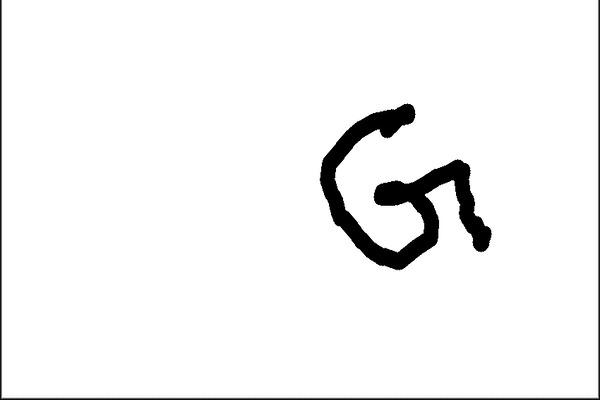G: (315, 101, 495, 271)
